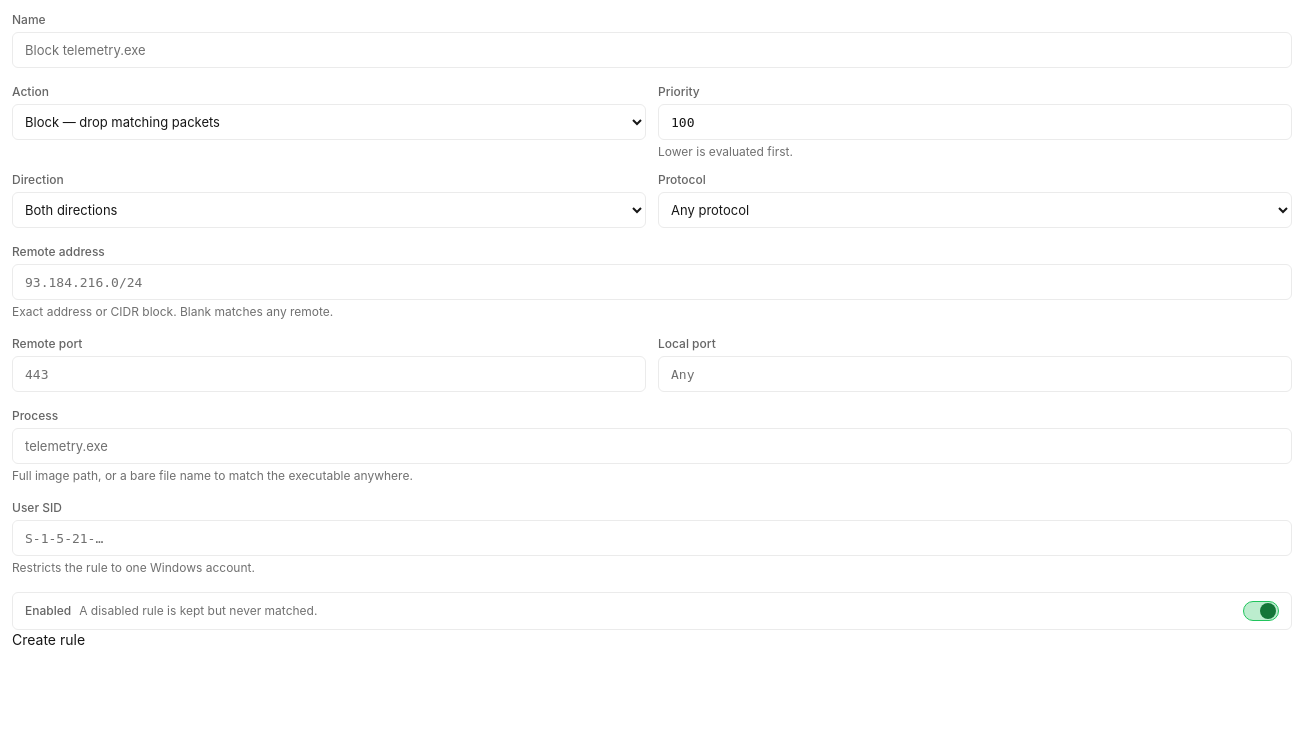
RuleForm › does not show a message until the field is left
Type "not-an-address" into the field labelled "Remote address".
click(652, 282); type("not-an-address")  # box [12, 264, 1292, 300]
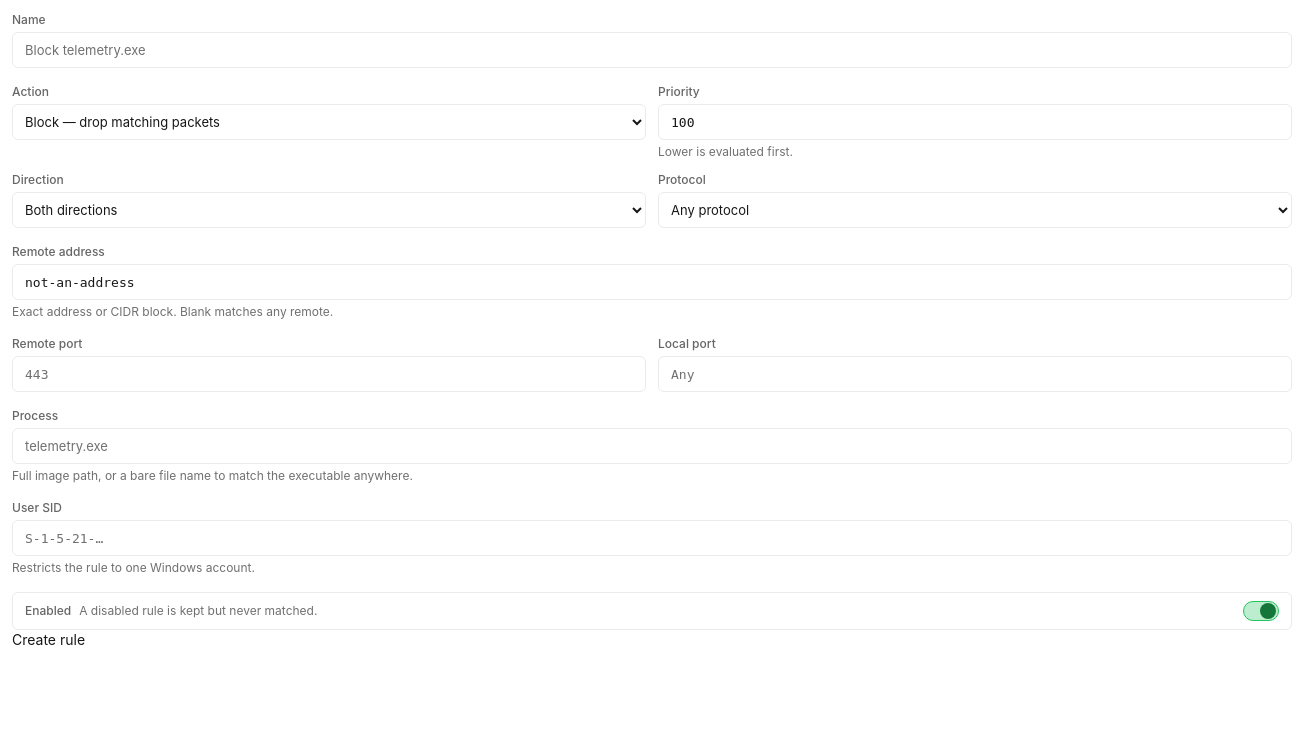
Expected: the text "Use an address or CIDR block" is not shown
Leave the field labelled "Remote address", box [12, 264, 1292, 300]
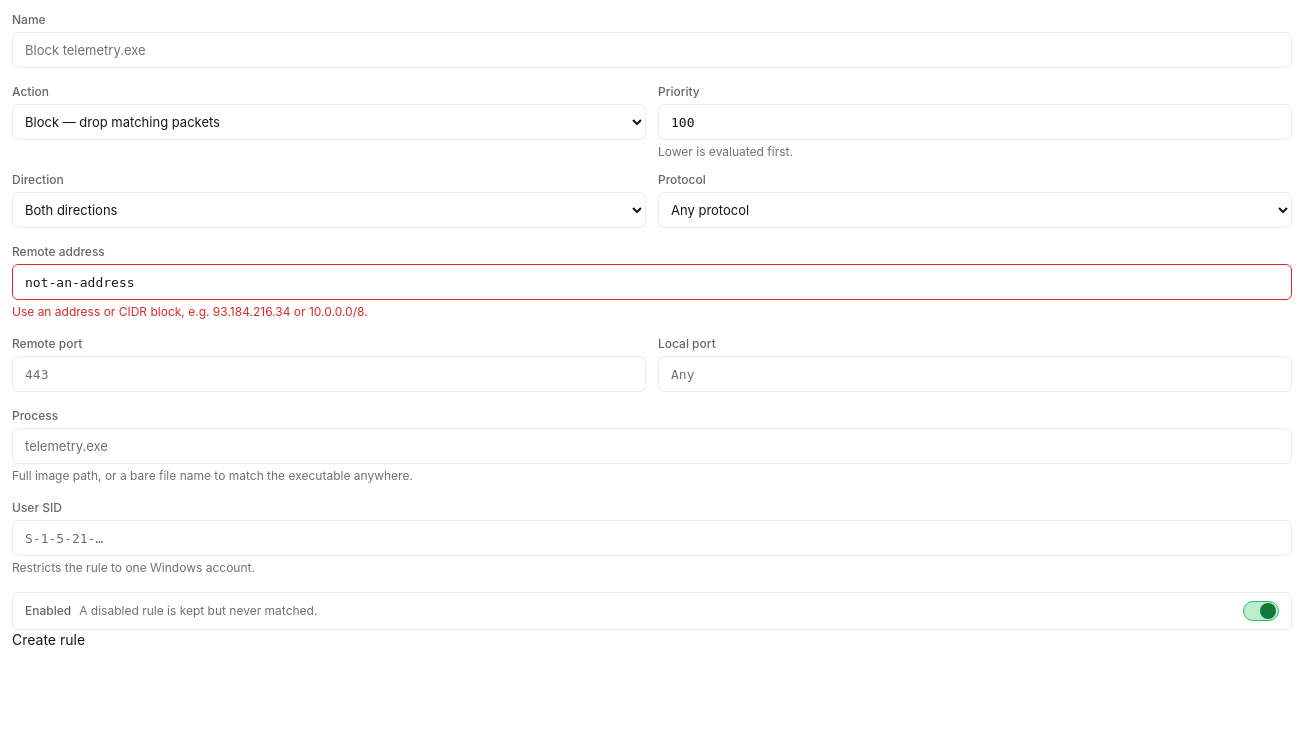
Now the text "Use an address or CIDR block" is shown, box [12, 304, 368, 319]
